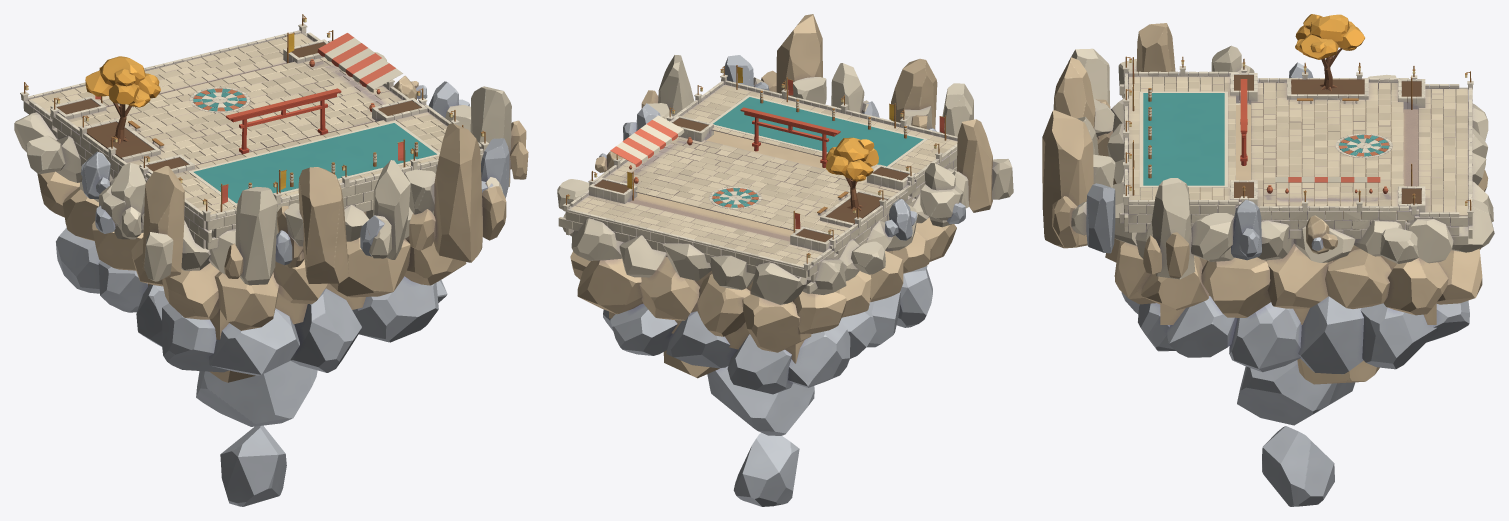
The model's file is cliffside_1.glb.
The picture shows the model from 3 angles, left to right: view 1: azimuth 30°, elevation 25°; view 2: azimuth 150°, elevation 25°; view 3: azimuth 270°, elevation 25°; orthographic projection. The views are drawn at different scales.
Parts seen in each view (by area): view 1: Lobby_Crag_Sand, Lobby_Crag_Blue, Lobby_Crag_Cream, Lobby_Paving_Court_Stone, Lobby_Mat_Canvas, Lobby_Paving_Balcony_Stone, Lobby_Parapet_Stone, Lobby_Retaining_Stone, Lobby_Paving_Training_Stone, Lobby_GreatTree_Leaf, Lobby_Gate_Timber, Lobby_Planters_Stone (+6 smaller); view 2: Lobby_Crag_Sand, Lobby_Crag_Blue, Lobby_Crag_Cream, Lobby_Paving_Court_Stone, Lobby_Paving_Balcony_Stone, Lobby_Mat_Canvas, Lobby_Retaining_Stone, Lobby_Parapet_Stone, Lobby_Paving_Training_Stone, Lobby_Planters_Stone, Lobby_GreatTree_Leaf, Lobby_Gate_Timber (+5 smaller); view 3: Lobby_Crag_Sand, Lobby_Crag_Blue, Lobby_Crag_Cream, Lobby_Paving_Court_Stone, Lobby_Mat_Canvas, Lobby_Paving_Balcony_Stone, Lobby_Retaining_Stone, Lobby_Paving_Training_Stone, Lobby_Parapet_Stone, Lobby_GreatTree_Leaf, Lobby_Planters_Stone, Lobby_Planters_Soil (+6 smaller).
Part boxes in pixels (bbox=[...]): Lobby_Crag_Sand: bbox=[37, 63, 528, 382]; Lobby_Crag_Blue: bbox=[56, 81, 509, 506]; Lobby_Crag_Cream: bbox=[14, 52, 511, 285]; Lobby_Paving_Court_Stone: bbox=[68, 57, 401, 166]; Lobby_Mat_Canvas: bbox=[194, 123, 436, 203]; Lobby_Paving_Balcony_Stone: bbox=[28, 33, 313, 113]; Lobby_Parapet_Stone: bbox=[20, 23, 488, 221]; Lobby_Retaining_Stone: bbox=[23, 33, 483, 249]; Lobby_Paving_Training_Stone: bbox=[175, 112, 447, 214]; Lobby_GreatTree_Leaf: bbox=[85, 56, 160, 107]; Lobby_Gate_Timber: bbox=[226, 88, 341, 154]; Lobby_Planters_Stone: bbox=[50, 39, 427, 174]; Lobby_Crag_Sand: bbox=[570, 14, 992, 378]; Lobby_Crag_Blue: bbox=[599, 55, 965, 506]; Lobby_Crag_Cream: bbox=[557, 55, 1013, 304]; Lobby_Paving_Court_Stone: bbox=[605, 136, 900, 235]; Lobby_Paving_Balcony_Stone: bbox=[570, 195, 823, 265]; Lobby_Mat_Canvas: bbox=[713, 97, 923, 166]; Lobby_Retaining_Stone: bbox=[558, 84, 957, 293]; Lobby_Parapet_Stone: bbox=[562, 74, 957, 270]; Lobby_Paving_Training_Stone: bbox=[682, 85, 957, 173]; Lobby_Planters_Stone: bbox=[589, 115, 915, 252]; Lobby_GreatTree_Leaf: bbox=[826, 137, 878, 181]; Lobby_Gate_Timber: bbox=[740, 107, 840, 167]; Lobby_Crag_Sand: bbox=[1042, 23, 1488, 384]; Lobby_Crag_Blue: bbox=[1078, 62, 1469, 506]; Lobby_Crag_Cream: bbox=[1068, 45, 1494, 279]; Lobby_Paving_Court_Stone: bbox=[1251, 82, 1403, 209]; Lobby_Mat_Canvas: bbox=[1143, 93, 1224, 185]; Lobby_Paving_Balcony_Stone: bbox=[1418, 89, 1468, 215]; Lobby_Retaining_Stone: bbox=[1119, 75, 1472, 244]; Lobby_Paving_Training_Stone: bbox=[1128, 76, 1235, 203]; Lobby_Parapet_Stone: bbox=[1123, 66, 1473, 217]; Lobby_GreatTree_Leaf: bbox=[1295, 14, 1364, 59]; Lobby_Planters_Stone: bbox=[1230, 73, 1425, 215]; Lobby_Planters_Soil: bbox=[1234, 75, 1421, 203].
Bounding box in the file's own units: 194 × 209 × 200.
Materials: 31 (31 with a texture image).
